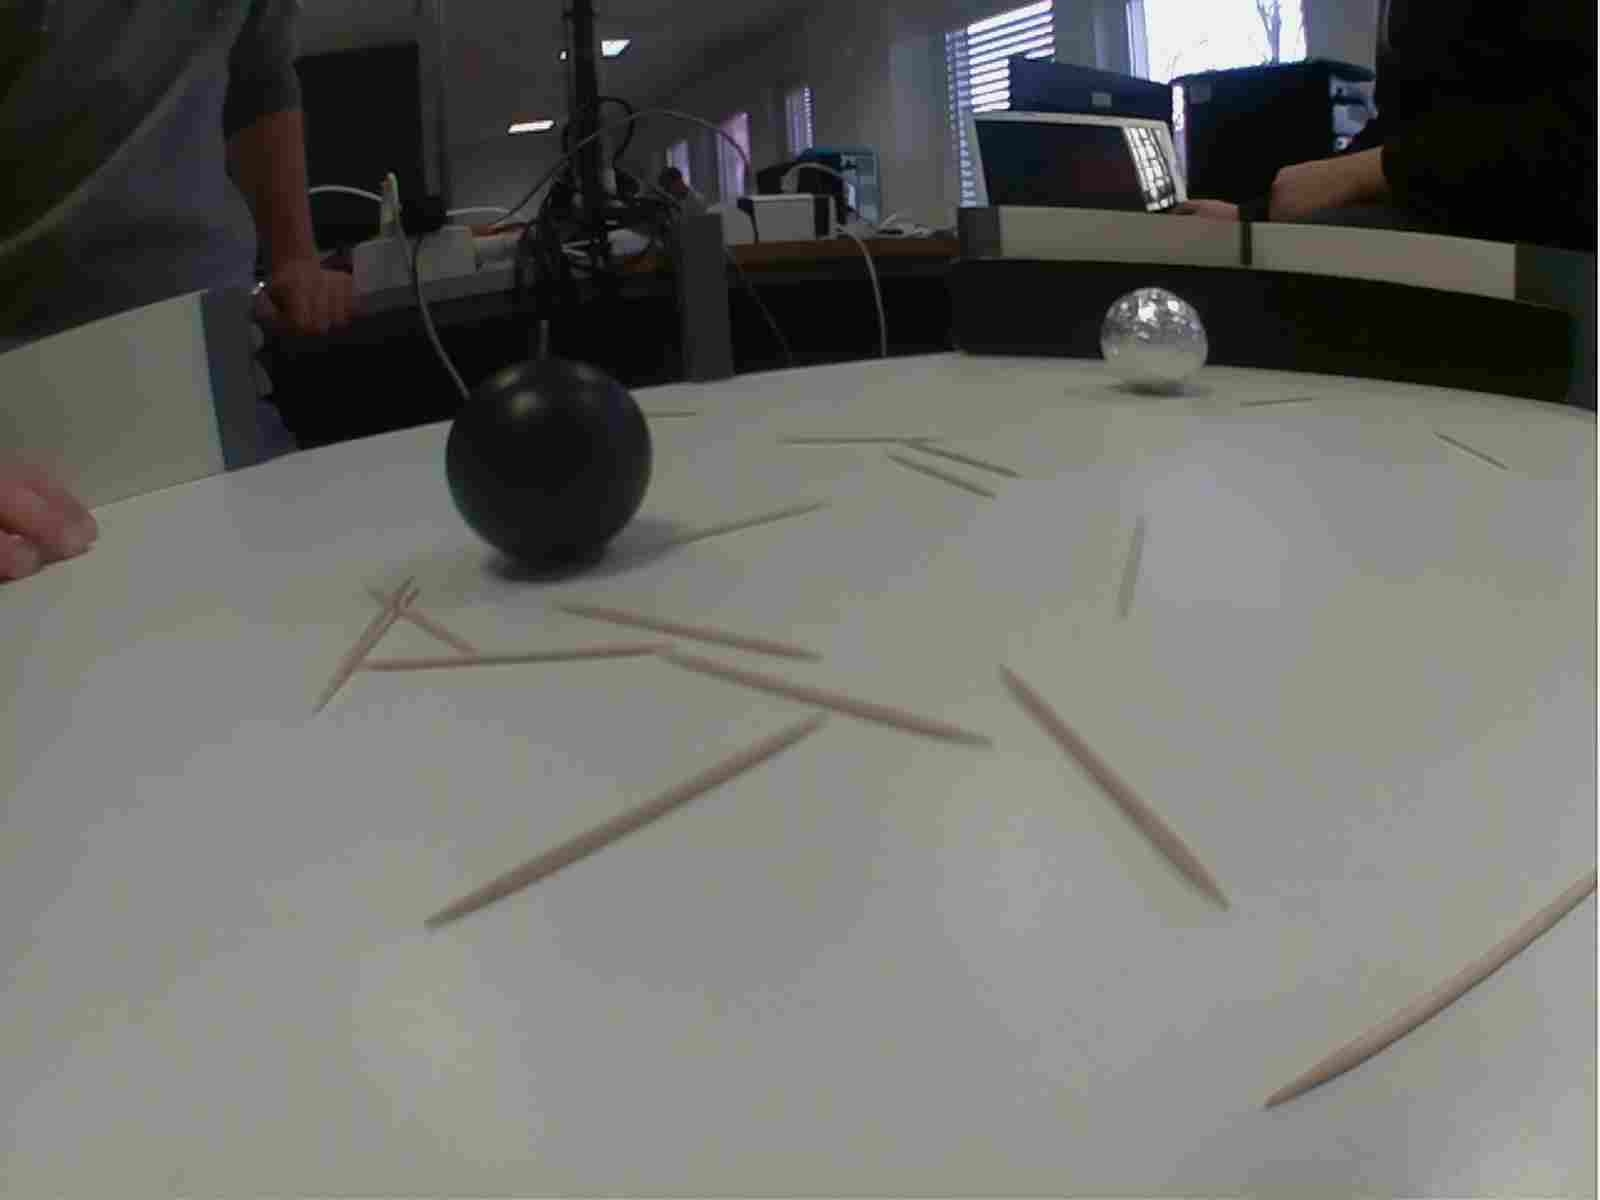bianca: (1099, 285, 1216, 401)
nera: (443, 359, 655, 576)
